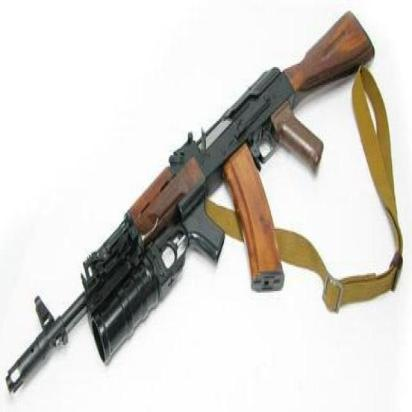Gun: (4, 8, 378, 412)
